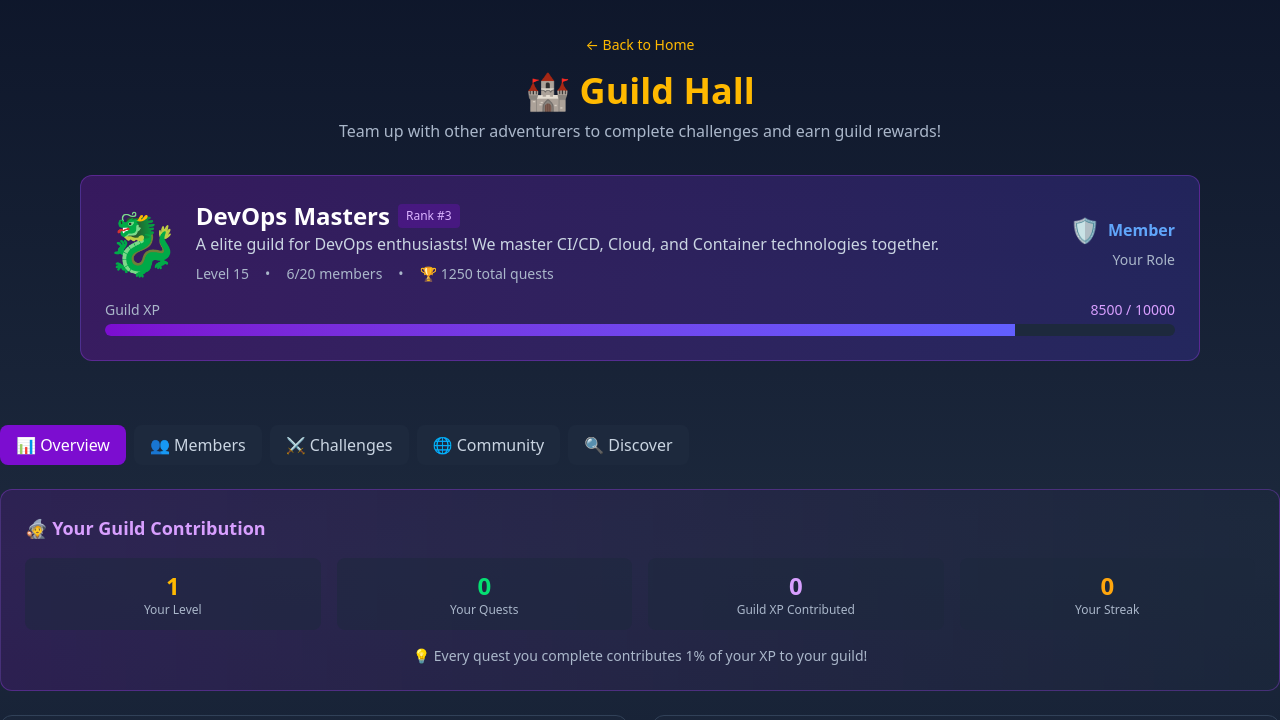
Test case: GuildPage › offers featured guilds but blocks joining while already in one
The width and height of the screenshot is (1280, 720).
Click the button "🔍 Discover": x=628, y=445 [568,425,689,465]
(page scrolled)
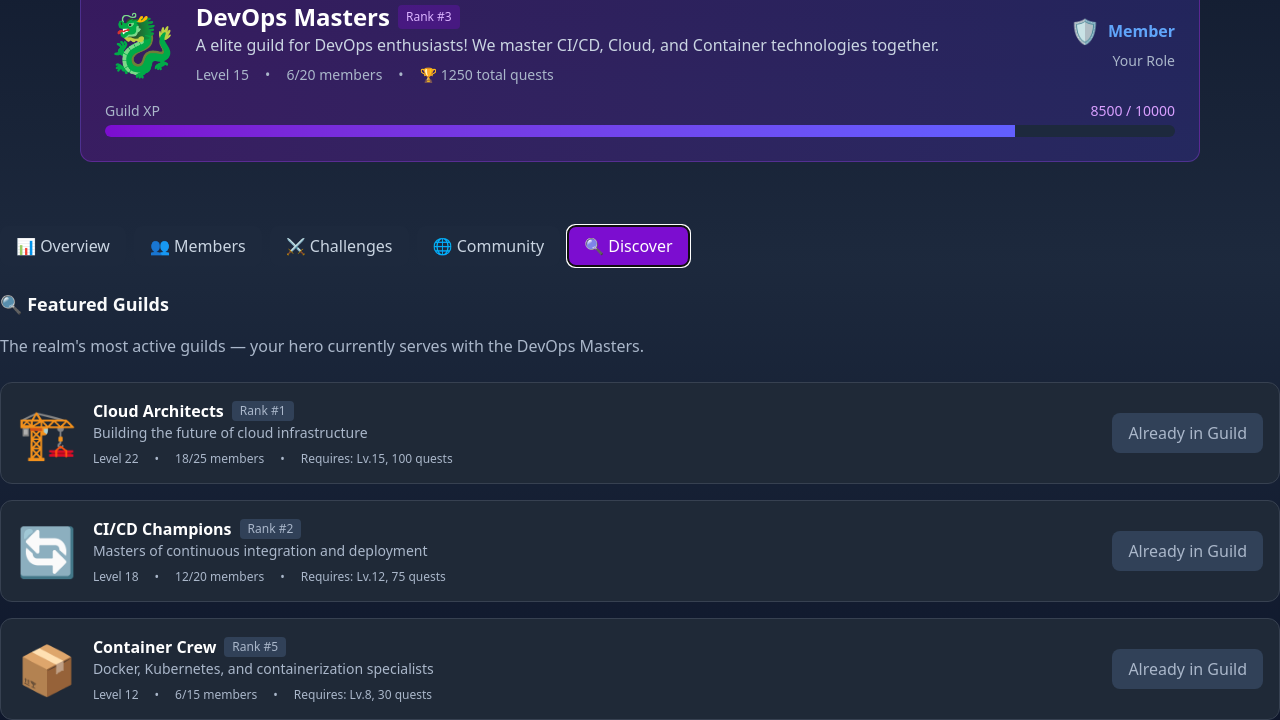
Result: the heading "🔍 Featured Guilds" is shown at [0,292,169,316]
Result: the heading "Cloud Architects" is shown at [93,399,224,423]
Result: the heading "CI/CD Champions" is shown at [93,517,232,541]
